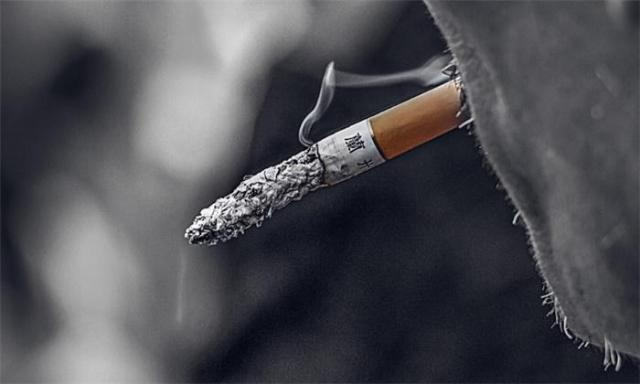Cigarette: (185, 74, 479, 248)
